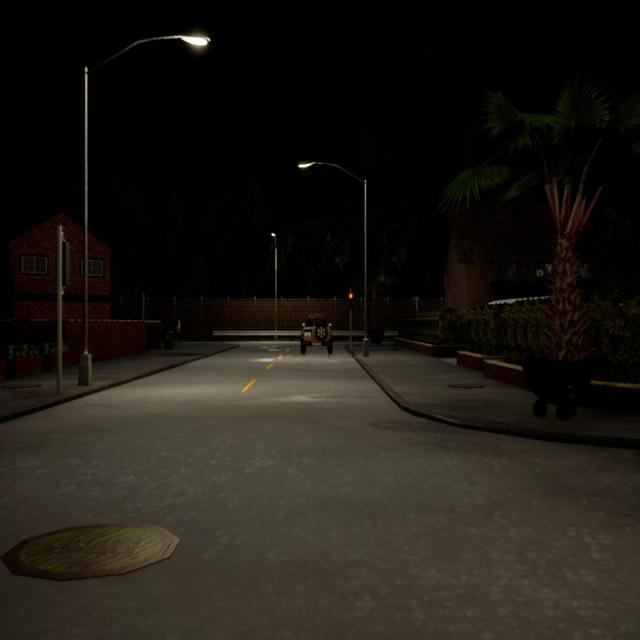Vehicle: (300, 314, 332, 354)
traffic_light: (62, 241, 70, 287), (348, 292, 353, 310)
